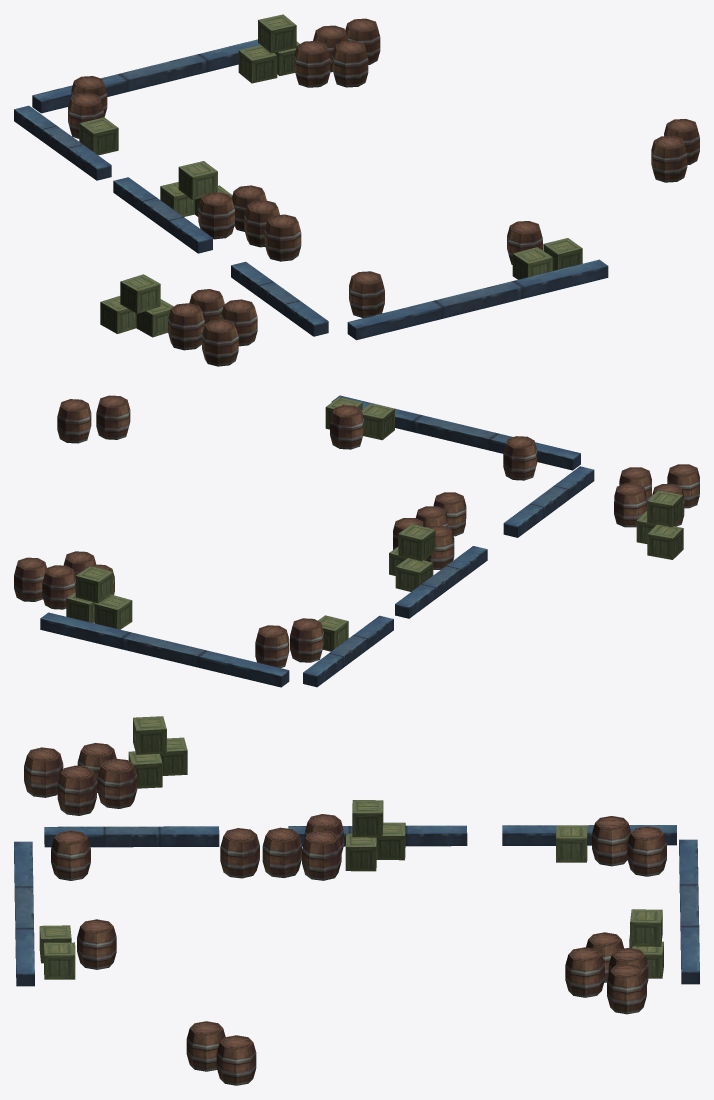
Rendered from Area_04_3.fbx.
The picture shows the model from 3 angles, top to bottom: view 1: azimuth 30°, elevation 25°; view 2: azimuth 150°, elevation 25°; view 3: azimuth 270°, elevation 25°; orthographic projection. The views are drawn at different scales.
Visible parts, largest first — view 1: Area_04_3; view 2: Area_04_3; view 3: Area_04_3.
Part boxes in pixels (left/top/right/bottom): Area_04_3: left=14, top=14, right=699, bottom=366; Area_04_3: left=14, top=395, right=699, bottom=687; Area_04_3: left=14, top=716, right=699, bottom=1085.
Bounding box in the file's own units: 3030 × 225 × 2706.
